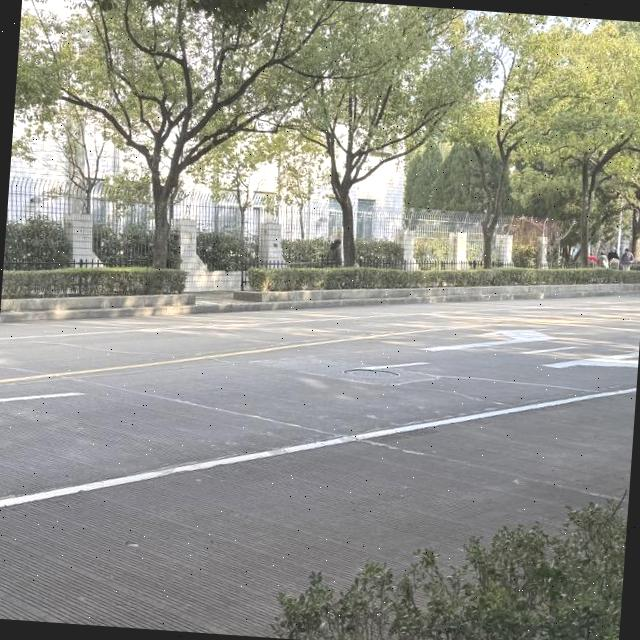curb: (219, 290, 640, 312), (233, 283, 640, 300), (0, 304, 220, 323), (1, 292, 195, 311)
